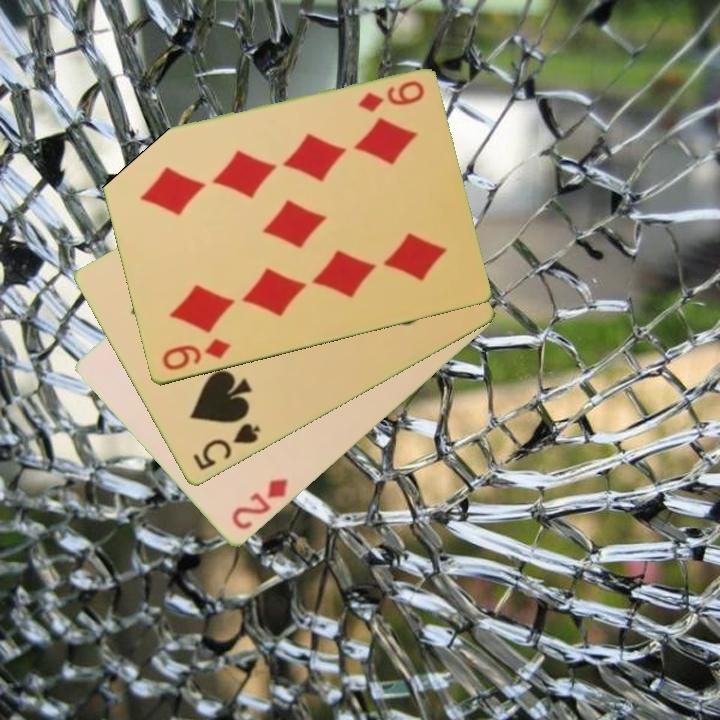2d: (228, 475, 291, 533)
5s: (189, 420, 263, 474)
9d: (158, 335, 233, 374), (354, 77, 427, 116)
